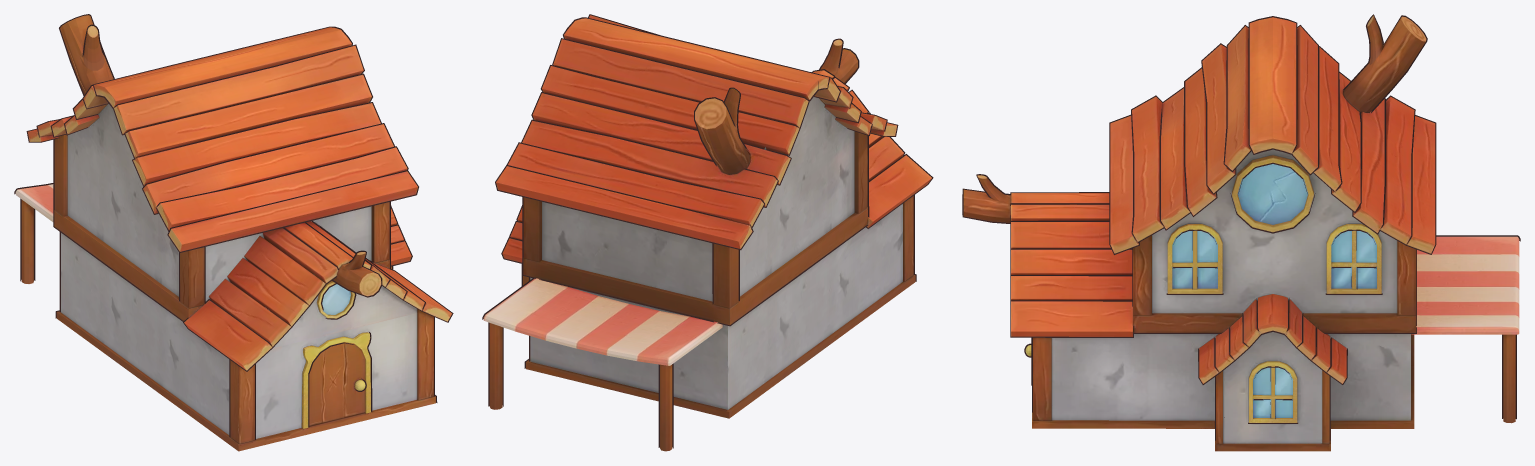
File: house.glb
The picture shows the model from 3 angles, left to right: view 1: azimuth 30°, elevation 25°; view 2: azimuth 150°, elevation 25°; view 3: azimuth 270°, elevation 25°; orthographic projection. The views are drawn at different scales.
Parts seen in each view (by area): view 1: Cube.018_Material.001_0, Cube.001_Material.002_0; view 2: Cube.018_Material.001_0, Cube.001_Material.002_0; view 3: Cube.018_Material.001_0, Cube.001_Material.002_0.
Part boxes in pixels (x1,y1,x2,y2): Cube.018_Material.001_0: [15, 15, 451, 451]; Cube.001_Material.002_0: [14, 14, 453, 439]; Cube.018_Material.001_0: [483, 15, 931, 451]; Cube.001_Material.002_0: [482, 14, 933, 448]; Cube.018_Material.001_0: [963, 15, 1519, 451]; Cube.001_Material.002_0: [962, 14, 1520, 440].
Bounding box in the file's own units: 17.19 × 18.25 × 28.82.
2 materials, 1 textured.
